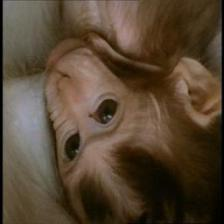monkey: (35, 28, 223, 223)
